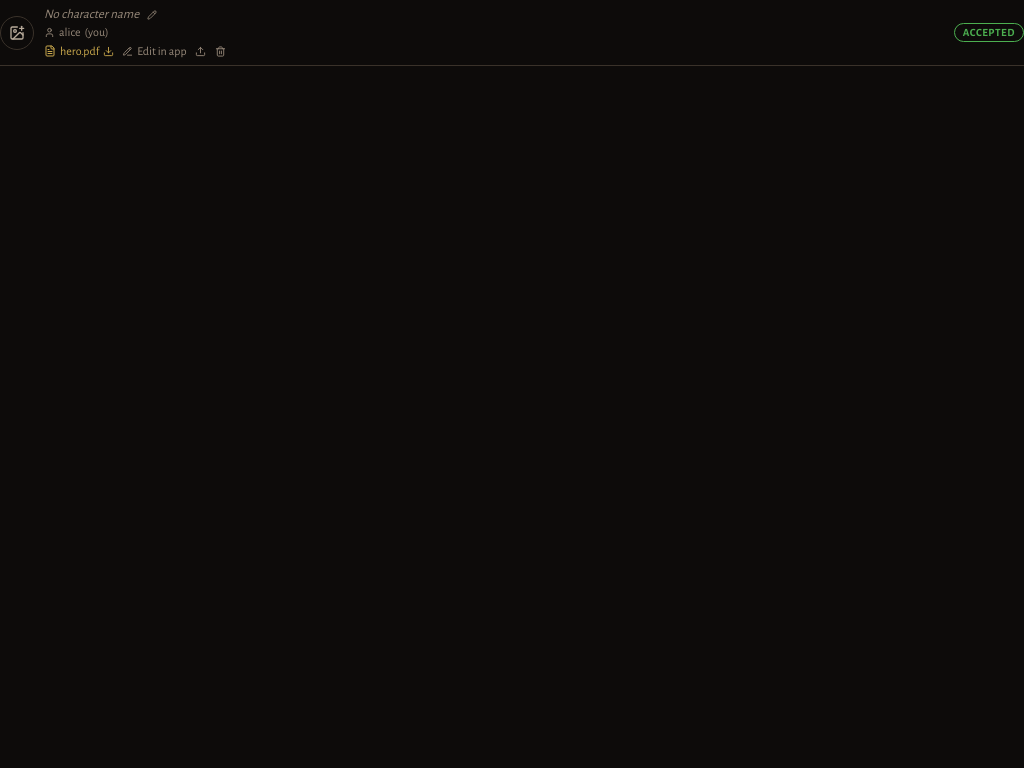
Test case: MemberRow › warns before replacing an existing sheet, offering Cancel/Download/Replace
// The replace (upload) action is shown for the editable member with a sheet.
Click the button named "Replace sheet".
click(200, 51)  # box [195,46,206,56]
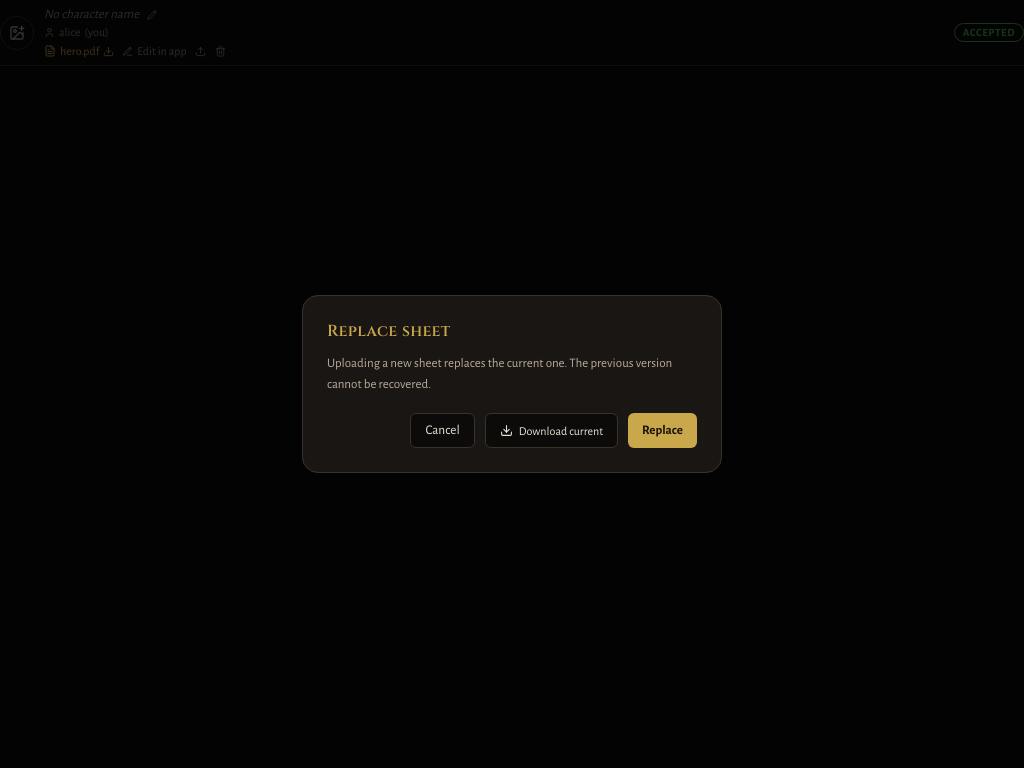
Now the text "replaces the current one" is shown, box [327,357,672,390]
Now the link "Download current" is shown, box [485,413,618,448]
Now the button "Replace" is shown, box [628,413,697,448]
